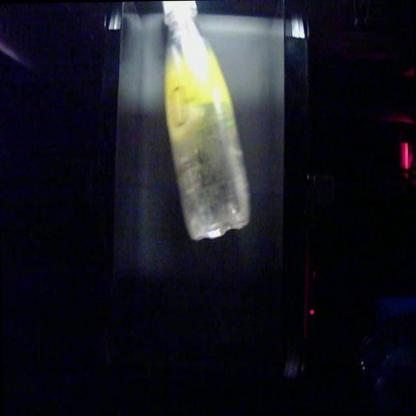Plastic Bottle: (163, 2, 249, 240)
